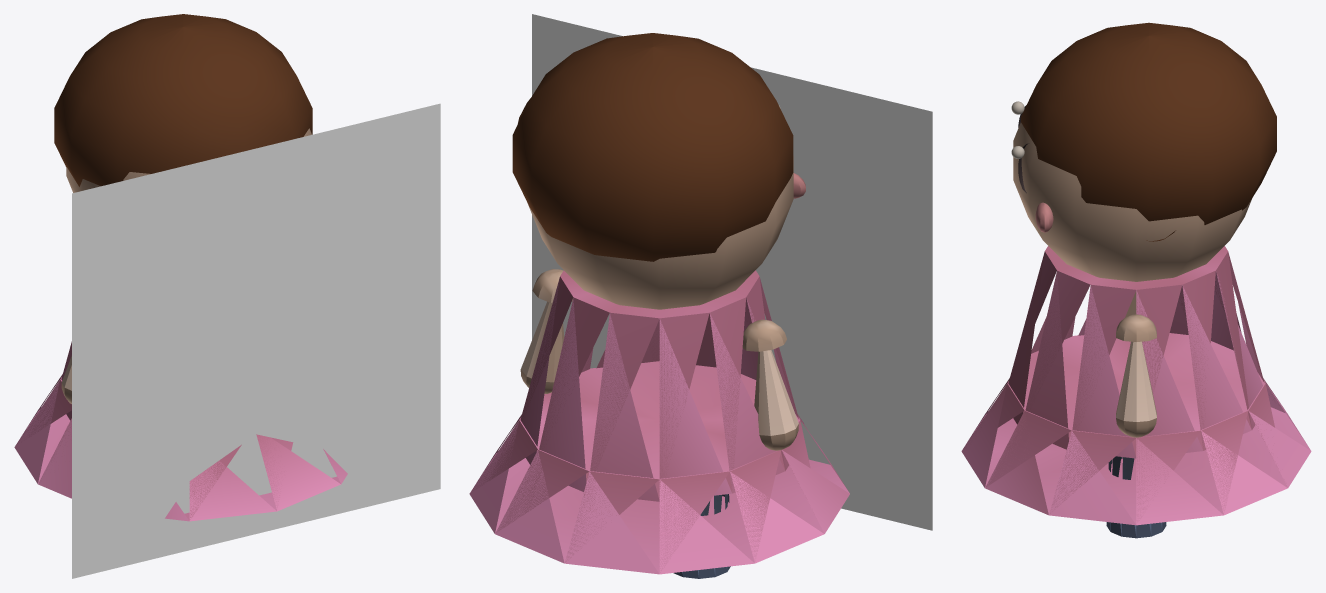
3 renders of one model, left to right at view 1: azimuth 30°, elevation 25°; view 2: azimuth 150°, elevation 25°; view 3: azimuth 270°, elevation 25°, orthographic. The views are drawn at different scales.
Visible parts, largest first — view 1: pet_p9356729c; view 2: pet_p9356729c; view 3: pet_p9356729c.
Boxes of the visible parts, left/top/right/bottom form: pet_p9356729c: left=14, top=14, right=440, bottom=578; pet_p9356729c: left=469, top=14, right=932, bottom=578; pet_p9356729c: left=961, top=22, right=1311, bottom=538.
Size of the model in its own units: 0.51 by 0.625 by 0.42.
